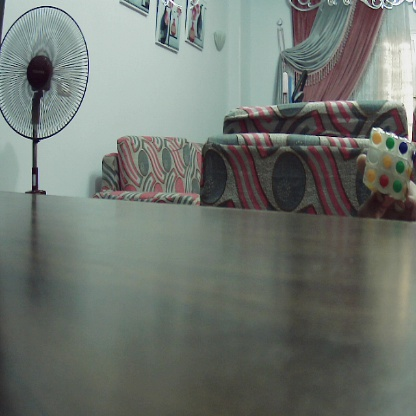Rubix Cube: (363, 128, 409, 197)
